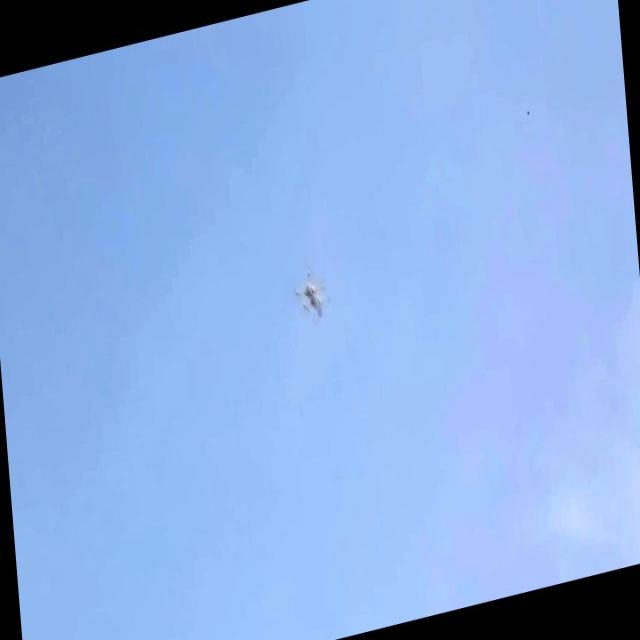drone: (296, 263, 330, 324)
